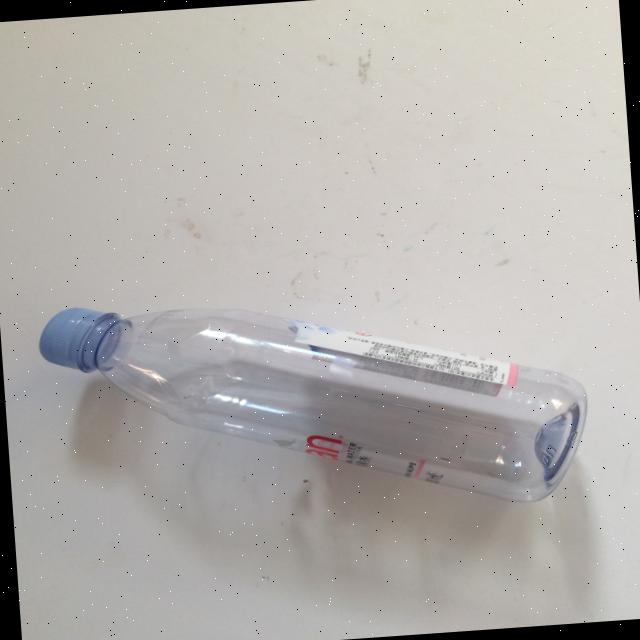plastic: (35, 270, 595, 536)
